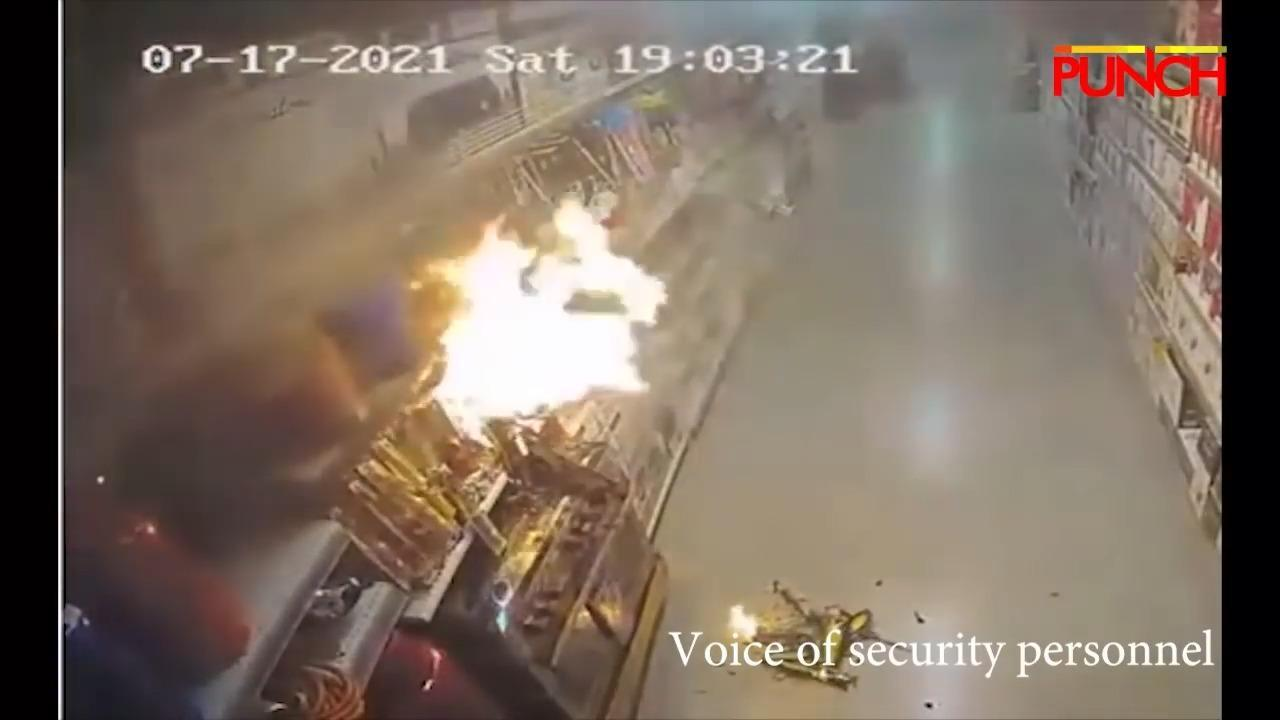fire: (427, 195, 666, 423), (731, 604, 756, 639)
